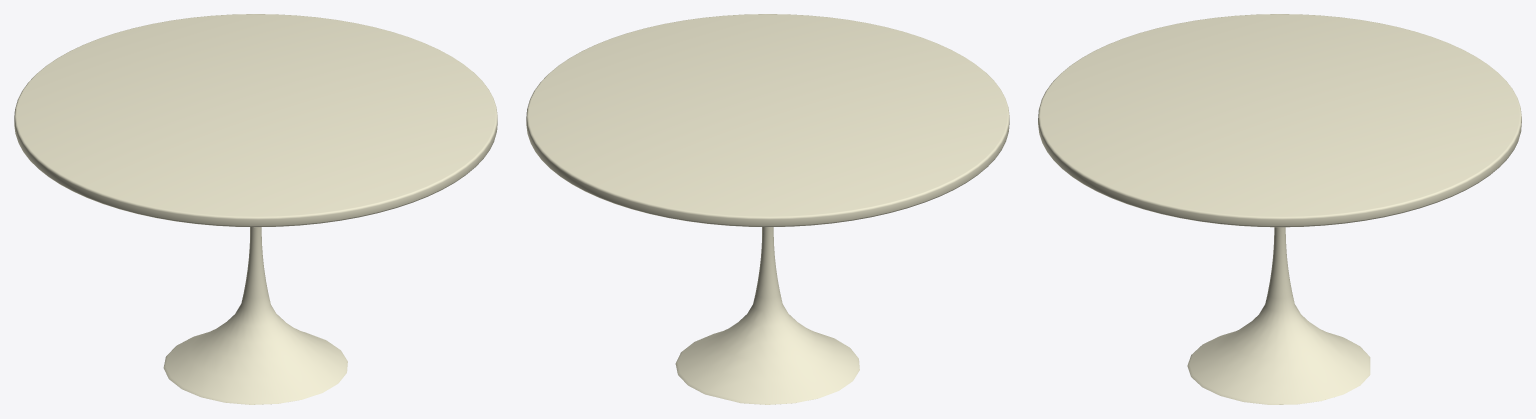
File: Table.fbx
The picture shows the model from 3 angles, left to right: view 1: azimuth 30°, elevation 25°; view 2: azimuth 150°, elevation 25°; view 3: azimuth 270°, elevation 25°; orthographic projection.
Visible parts, largest first — view 1: TableTop, TableBase; view 2: TableTop, TableBase; view 3: TableTop, TableBase.
Part boxes in pixels (x1=…): TableTop: x1=14, y1=14, x2=497, y2=227; TableBase: x1=163, y1=227, x2=347, y2=404; TableTop: x1=526, y1=14, x2=1009, y2=226; TableBase: x1=675, y1=227, x2=859, y2=404; TableTop: x1=1038, y1=14, x2=1521, y2=227; TableBase: x1=1187, y1=227, x2=1370, y2=404.
Size of the model in its own units: 7.27 by 4.16 by 7.27.
